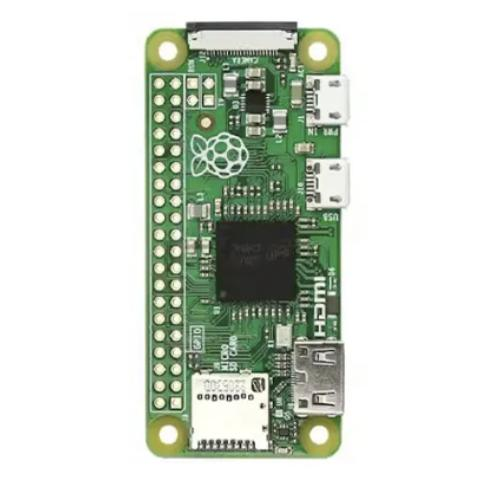Raspberry-Pi-Zero: (144, 19, 348, 459)
